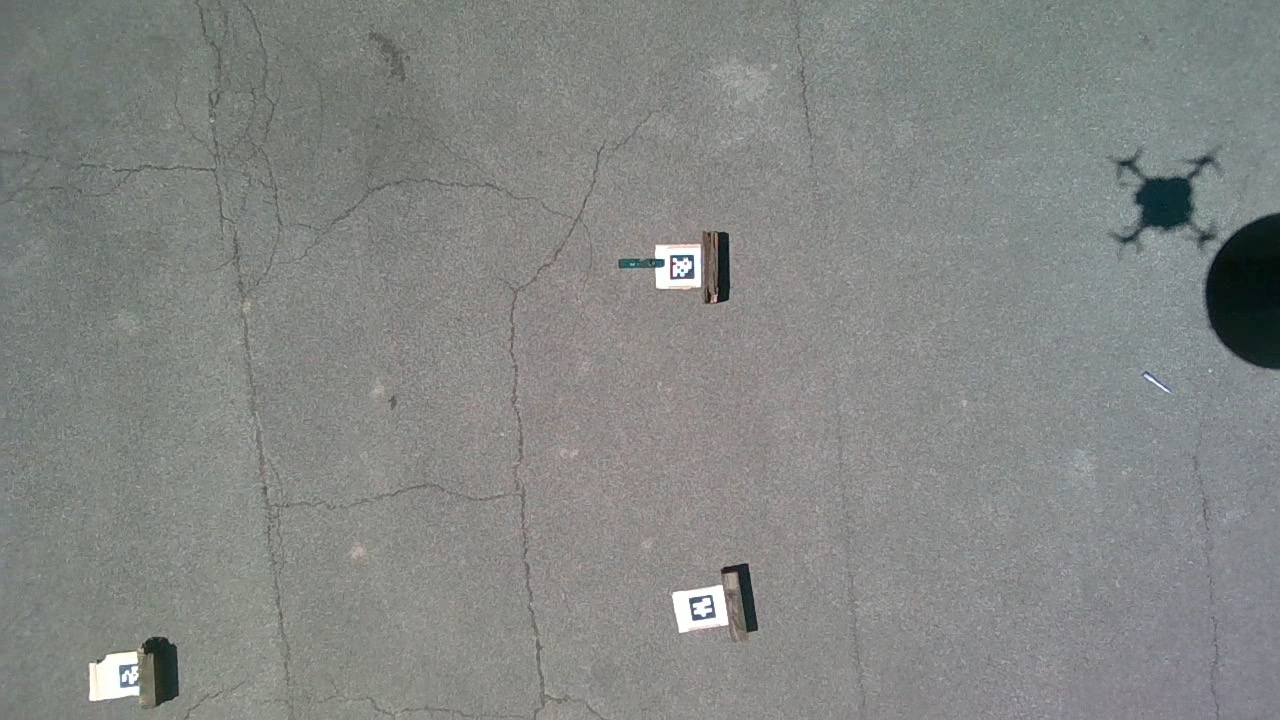probes: (1142, 371, 1171, 393)
